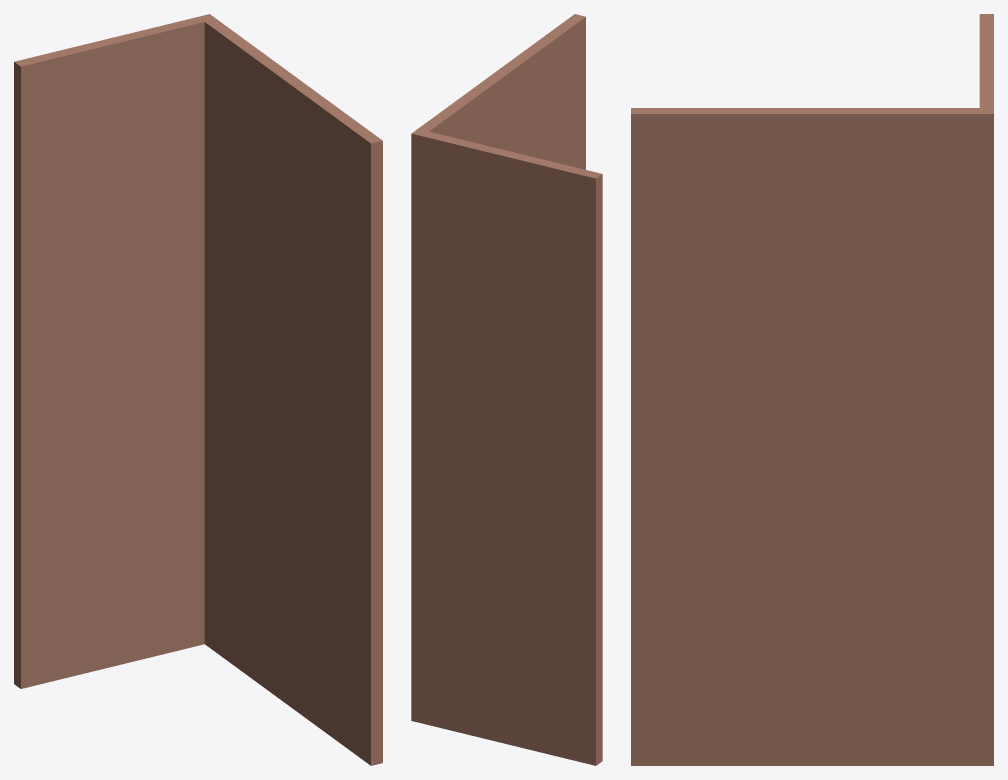
Rendered from mur fond angle etage1 1.FBX.
The picture shows the model from 3 angles, left to right: view 1: azimuth 30°, elevation 25°; view 2: azimuth 150°, elevation 25°; view 3: azimuth 270°, elevation 25°; orthographic projection. The views are drawn at different scales.
Parts seen in each view (by area): view 1: mur fond angle etage 1; view 2: mur fond angle etage 1; view 3: mur fond angle etage 1.
Boxes of the visible parts, x1,y1,x2,y2 form: mur fond angle etage 1: (14,14,382,765); mur fond angle etage 1: (411,14,602,765); mur fond angle etage 1: (631,14,993,765).
Size of the model in its own units: 66.03 by 201 by 101.
Materials: 1 (1 with a texture image).
